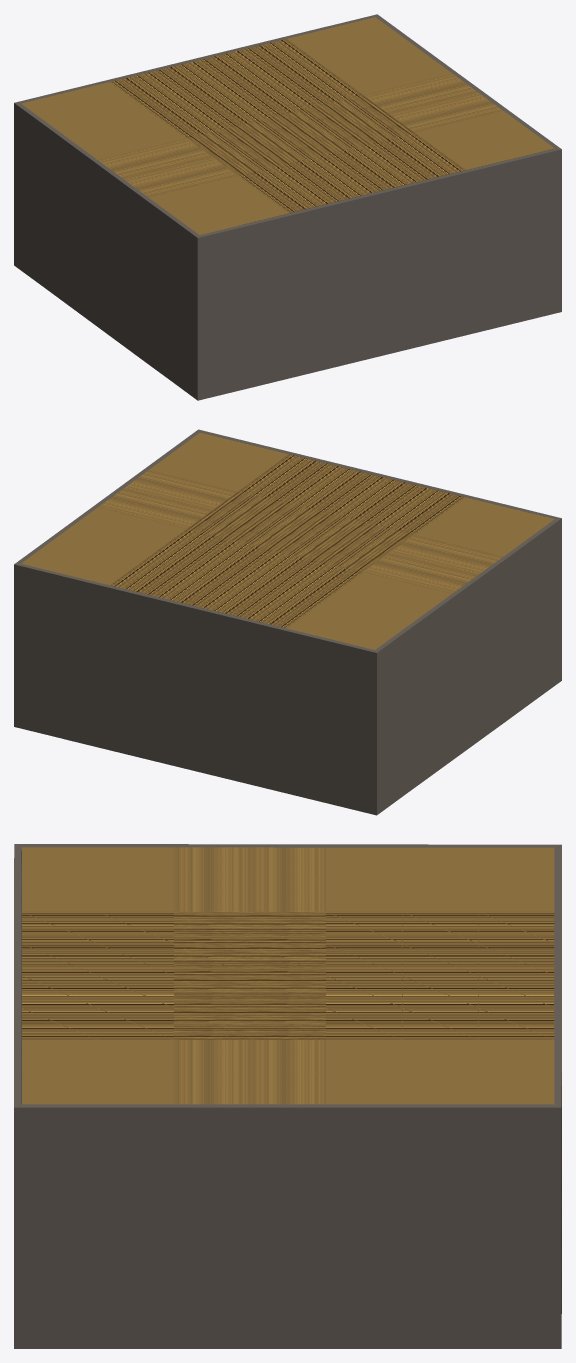
File: LevelDesignSetupRommTest.fbx
3 renders of one model, top to bottom at view 1: azimuth 30°, elevation 25°; view 2: azimuth 150°, elevation 25°; view 3: azimuth 270°, elevation 25°, orthographic. The views are drawn at different scales.
Parts seen in each view (by area): view 1: floor_regular_4x2_001, wall_regular_3m_002, wall_regular_3m_001, wall_regular_4m_001, wall_regular_cornerElement_F_003, wall_regular_cornerElement_F_002, wall_regular_cornerElement_F, wall_regular_1m_001, wall_regular_4m; view 2: floor_regular_4x2_001, wall_regular_4m, wall_regular_4m_001, wall_regular_2m, wall_regular_cornerElement_F, wall_regular_cornerElement_F_001, wall_regular_cornerElement_F_003, wall_regular_1m_001; view 3: floor_regular_4x2_001, wall_regular_3m, wall_regular_2m_001, wall_regular_cornerElement_F_002, wall_regular_cornerElement_F_001, wall_regular_4m_001, wall_regular_4m, wall_regular_3m_002, wall_regular_3m_001, wall_regular_cornerElement_F, wall_regular_cornerElement_F_003.
Part boxes in pixels (x1,y1,x2,y2): floor_regular_4x2_001: (21,17,554,234); wall_regular_3m_002: (244,192,379,388); wall_regular_3m_001: (377,159,512,356); wall_regular_4m_001: (42,122,147,360); wall_regular_cornerElement_F_003: (169,216,246,400); wall_regular_cornerElement_F_002: (511,128,561,323); wall_regular_cornerElement_F: (14,91,64,285); wall_regular_1m_001: (144,197,173,379); wall_regular_4m: (63,47,242,92); floor_regular_4x2_001: (21,432,554,649); wall_regular_4m: (150,596,330,803); wall_regular_4m_001: (401,556,507,794); wall_regular_2m: (62,574,152,760); wall_regular_cornerElement_F: (328,631,404,815); wall_regular_cornerElement_F_001: (14,544,63,738); wall_regular_cornerElement_F_003: (511,506,561,700); wall_regular_1m_001: (504,538,533,719); floor_regular_4x2_001: (22,847,554,1104); wall_regular_3m: (249,1104,477,1348); wall_regular_2m_001: (97,1104,249,1348); wall_regular_cornerElement_F_002: (14,1072,97,1348); wall_regular_cornerElement_F_001: (478,1073,561,1348); wall_regular_4m_001: (174,844,478,847); wall_regular_4m: (554,880,561,1249); wall_regular_3m_002: (14,879,21,986); wall_regular_3m_001: (14,976,21,1082); wall_regular_cornerElement_F: (478,844,561,1120); wall_regular_cornerElement_F_003: (14,844,97,1103).
Bounding box in the file's own units: 8.2 × 3.5 × 7.2.
